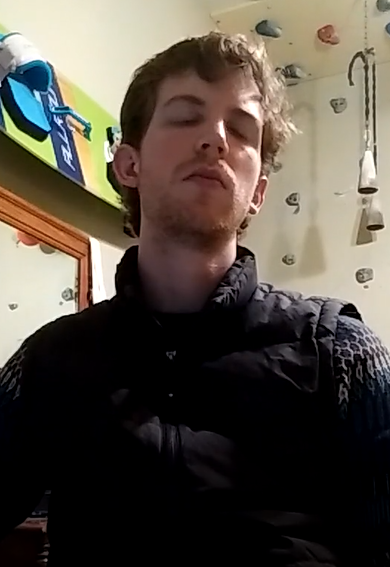Sleeping: (150, 92, 274, 154)
